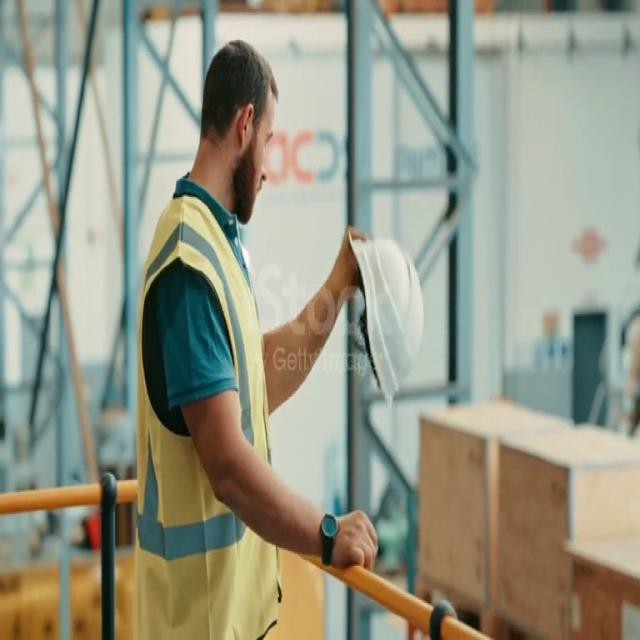sem_capacete: (189, 25, 291, 221)
